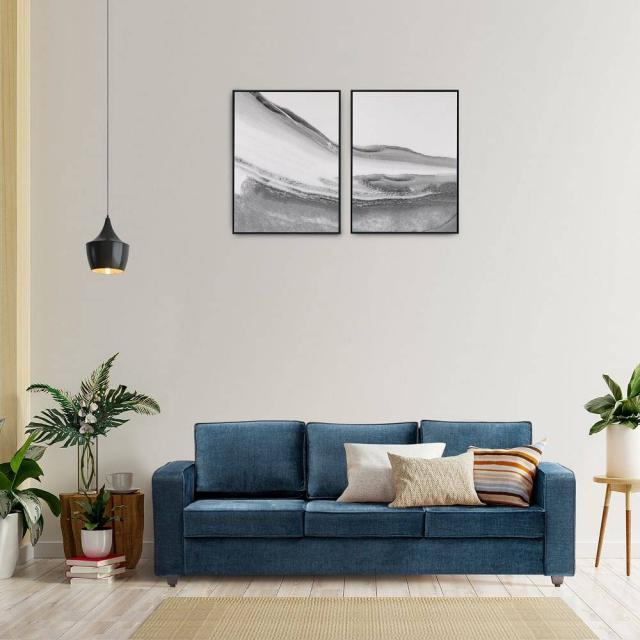sofa: (150, 418, 576, 588)
